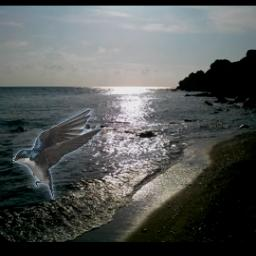Swallow: (14, 109, 102, 201)
